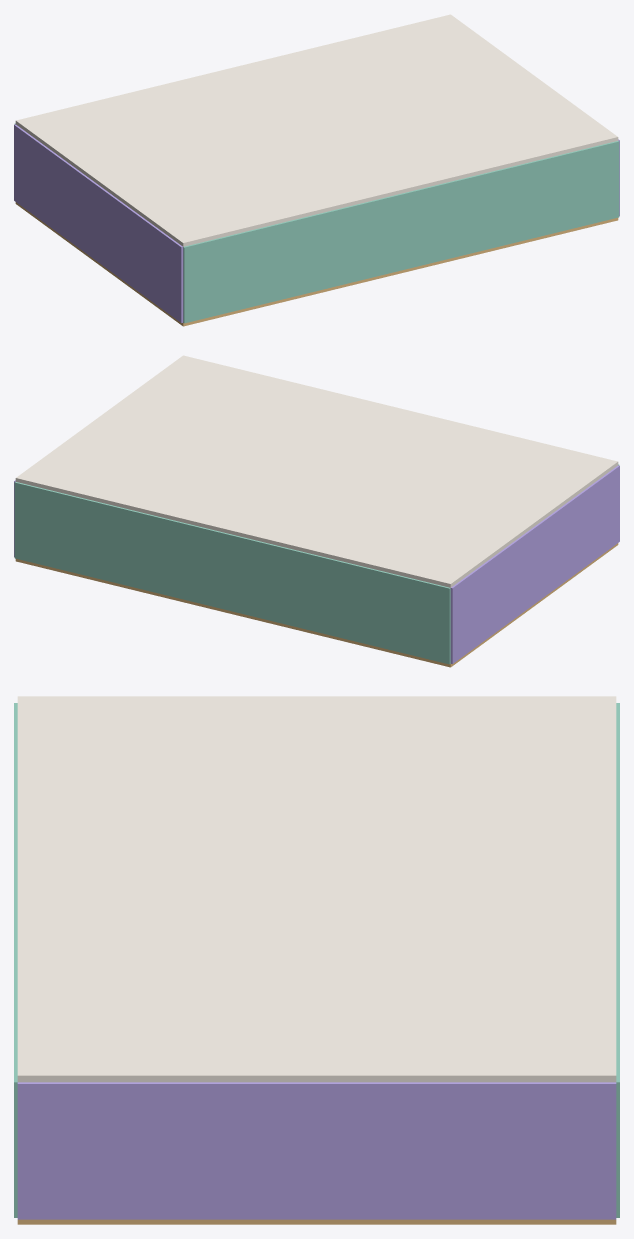
The model's file is Office.fbx.
3 views of the same model, one above another, from view 1: azimuth 30°, elevation 25°; view 2: azimuth 150°, elevation 25°; view 3: azimuth 270°, elevation 25° (orthographic). The views are drawn at different scales.
Parts seen in each view (by area): view 1: Ceiling, WallS, WallW, Floor.001; view 2: Ceiling, WallN, WallW, Floor.001; view 3: Ceiling, WallE, Floor.001, WallN, WallS.
Part boxes in pixels (x1=…): Ceiling: x1=15, y1=14, x2=618, y2=246; WallS: x1=183, y1=141, x2=619, y2=323; WallW: x1=14, y1=124, x2=183, y2=322; Floor.001: x1=15, y1=202, x2=618, y2=326; Ceiling: x1=15, y1=355, x2=618, y2=587; WallN: x1=14, y1=482, x2=450, y2=664; WallW: x1=450, y1=465, x2=619, y2=663; Floor.001: x1=15, y1=543, x2=618, y2=667; Ceiling: x1=17, y1=696, x2=616, y2=1082; WallE: x1=17, y1=1082, x2=616, y2=1219; Floor.001: x1=17, y1=1219, x2=616, y2=1224; WallN: x1=616, y1=703, x2=619, y2=1217; WallS: x1=14, y1=703, x2=17, y2=1217.
Bounding box in the file's own units: 24.2 × 4.4 × 16.2.
